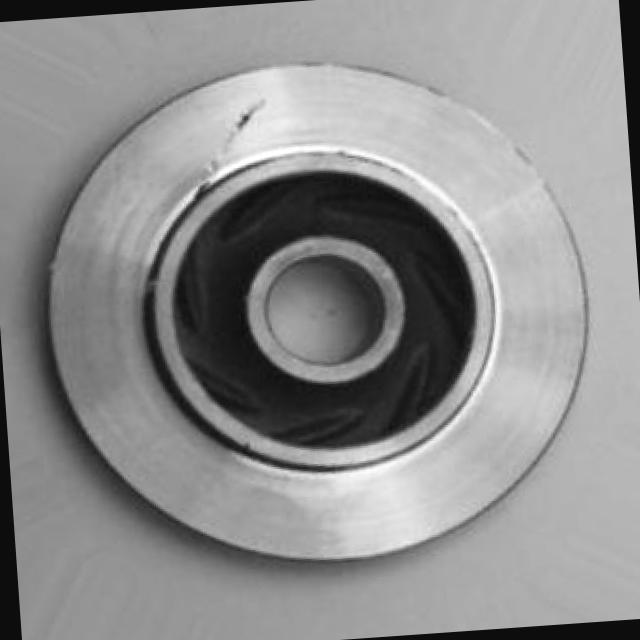Defect: (228, 104, 265, 134)
